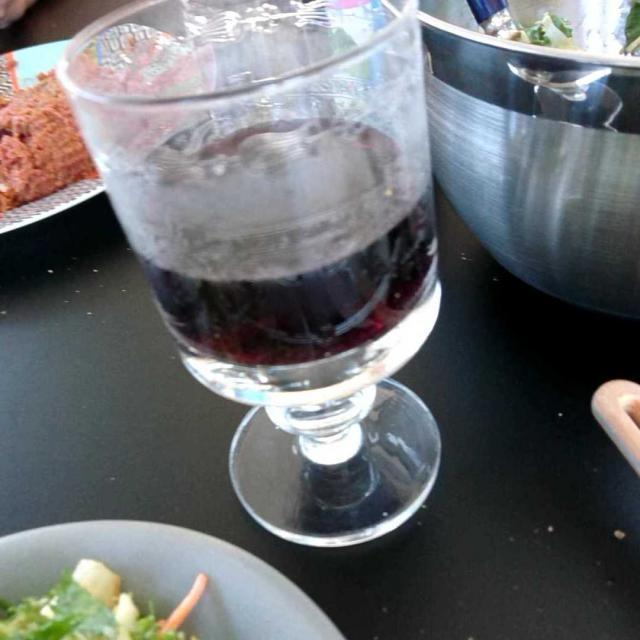wine: (130, 134, 479, 387)
